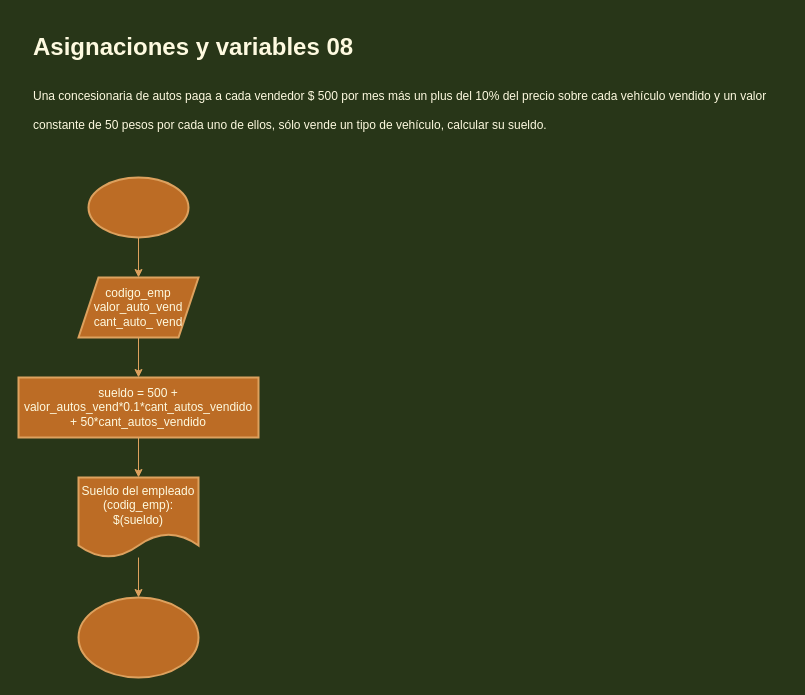
Image size: 805x695. Some labels were removed from this diagram. Each missing label, with the box of its shape:
fin: (77, 596, 199, 678)
inicio: (87, 176, 189, 238)
